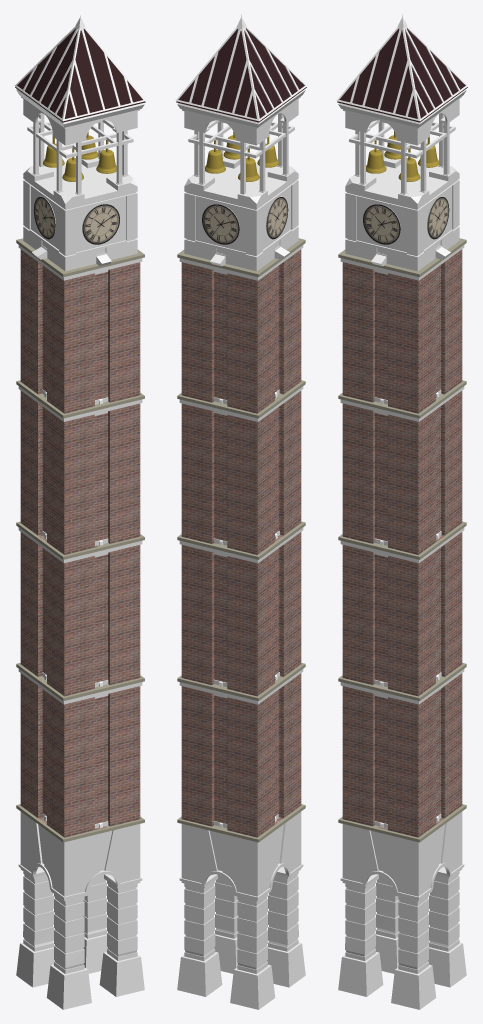
Rendered from purdue_university_bell_tower.glb.
3 renders of one model, left to right at view 1: azimuth 30°, elevation 25°; view 2: azimuth 150°, elevation 25°; view 3: azimuth 330°, elevation 25°, orthographic.
Visible parts, largest first — view 1: pCube9, pCube171, pCube172, pCube173, pCube107, pCube91, pCube144, polySurface4, group1_pCube135, pCylinder2, pCube170, pCube127 (+12 smaller); view 2: pCube9, pCube171, pCube172, pCube173, pCube107, pCube91, pCube144, polySurface4, group1_pCube135, pCylinder23, pCube170, pCube127 (+12 smaller); view 3: pCube9, pCube171, pCube172, pCube173, pCube107, pCube91, pCube144, polySurface4, group1_pCube135, pCylinder2, pCube170, pCube127 (+12 smaller).
Part boxes in pixels (<box>): pCube9: <box>16,812,144,1009</box>; pCube171: <box>20,673,140,837</box>; pCube172: <box>20,390,140,554</box>; pCube173: <box>20,249,140,413</box>; pCube107: <box>20,532,140,696</box>; pCube91: <box>23,156,137,271</box>; pCube144: <box>15,29,145,122</box>; polySurface4: <box>16,89,144,145</box>; group1_pCube135: <box>32,122,128,194</box>; pCylinder2: <box>82,204,119,244</box>; pCube170: <box>27,120,133,158</box>; pCube127: <box>16,238,144,277</box>; pCube9: <box>177,812,305,1009</box>; pCube171: <box>181,673,301,837</box>; pCube172: <box>181,391,301,554</box>; pCube173: <box>181,249,301,413</box>; pCube107: <box>181,532,301,696</box>; pCube91: <box>184,153,298,271</box>; pCube144: <box>176,29,306,122</box>; polySurface4: <box>177,89,305,145</box>; group1_pCube135: <box>193,114,289,192</box>; pCylinder23: <box>202,204,239,244</box>; pCube170: <box>188,120,294,158</box>; pCube127: <box>177,238,305,277</box>; pCube9: <box>338,812,466,1009</box>; pCube171: <box>342,673,462,837</box>; pCube172: <box>342,391,462,554</box>; pCube173: <box>342,249,462,413</box>; pCube107: <box>342,532,462,696</box>; pCube91: <box>345,156,459,271</box>; pCube144: <box>337,29,467,122</box>; polySurface4: <box>338,89,466,145</box>; group1_pCube135: <box>354,114,450,194</box>; pCylinder2: <box>363,204,400,244</box>; pCube170: <box>349,120,455,158</box>; pCube127: <box>338,238,466,277</box>.
Bounding box in the file's own units: 4.79 × 48.44 × 4.79.
8 materials, 3 textured.
